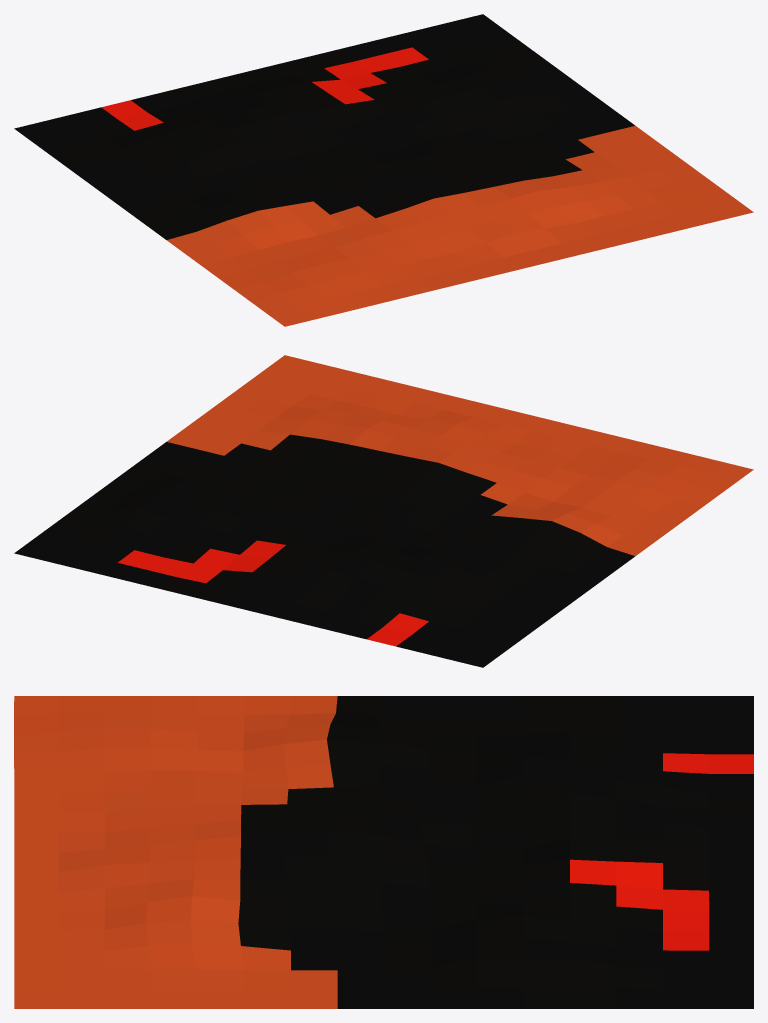
File: SandHot4.FBX
3 views of the same model, one above another, from view 1: azimuth 30°, elevation 25°; view 2: azimuth 150°, elevation 25°; view 3: azimuth 270°, elevation 25° (orthographic). The views are drawn at different scales.
Visible parts, largest first — view 1: Terrain.003; view 2: Terrain.003; view 3: Terrain.003.
Boxes of the visible parts, box(x1,y1,x2,y2) form: Terrain.003: box(14, 14, 753, 326); Terrain.003: box(14, 355, 753, 667); Terrain.003: box(14, 696, 753, 1008).
Bounding box in the file's own units: 800 × 800 × 23.83.
